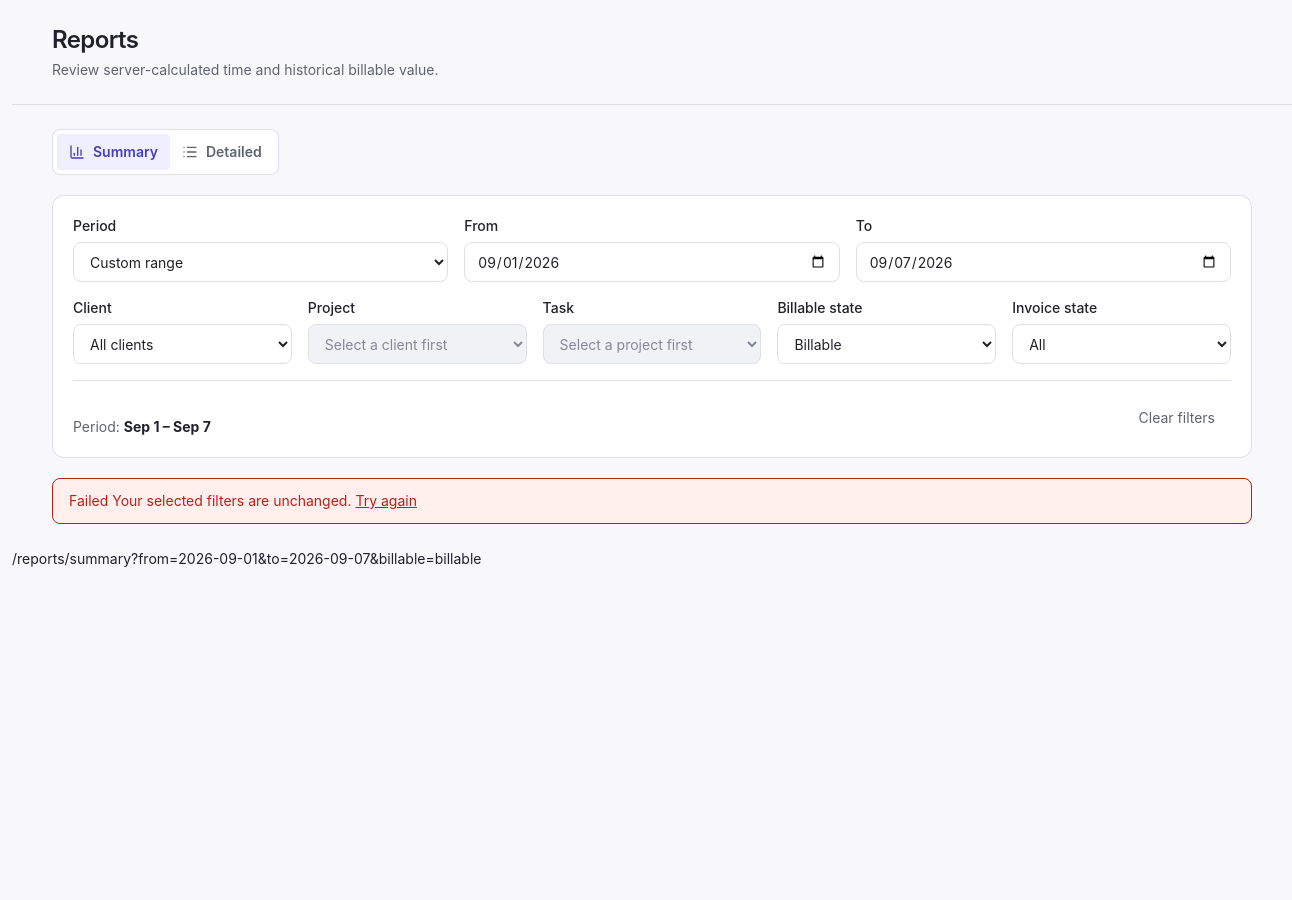
Scenario: ReportsPage › keeps filters through a retryable error
expect the text "Failed Your selected filters are unchanged. Try again" is shown: met, box [52,478,1252,524]
expect the text with test id "location" shows "billable=billable": met, box [131,550,482,567]
Click the button "Try again".
click(386, 501)  # box [355,491,417,511]
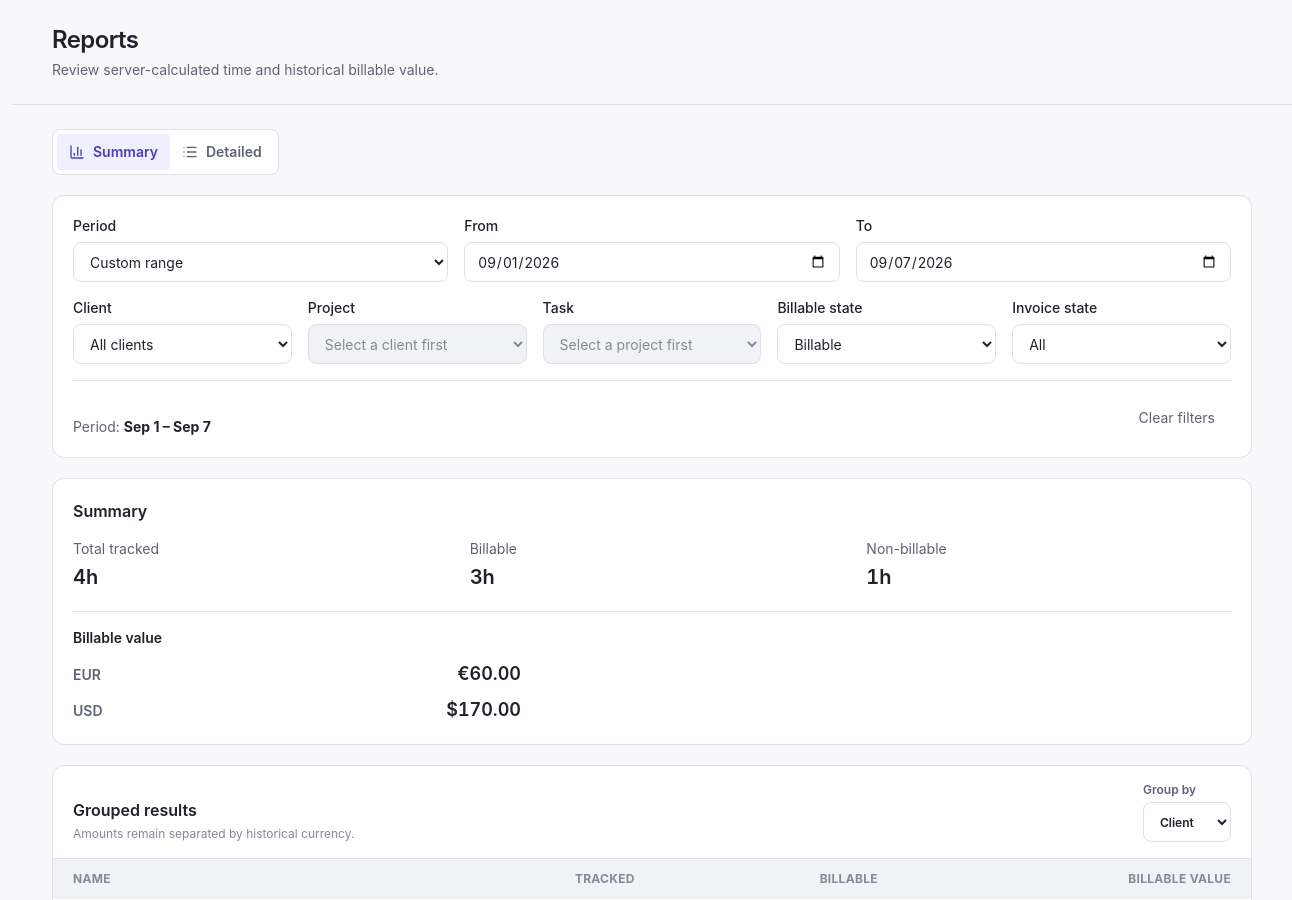
expect the heading "Summary" is shown: met, box [73,501,147,521]
